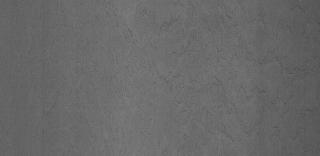silk spot: (152, 65, 276, 127), (218, 6, 320, 50), (120, 10, 204, 58)
